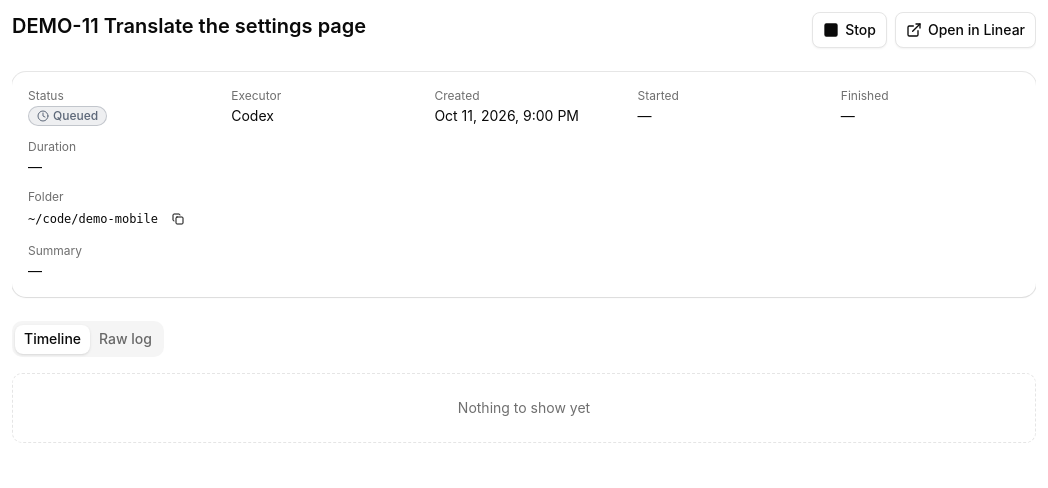
Test: a log with events but none worth a row has nothing to show in the timeline, and all of it in the raw log
The image size is (1048, 488).
Expected: the heading "DEMO-11 Translate the settings page" is shown, x1=12 y1=12 x2=366 y2=40
Expected: the text "Nothing to show yet" is shown, x1=12 y1=373 x2=1036 y2=443
Click the tab "Raw log".
click(126, 339)  # box x1=90 y1=324 x2=161 y2=354
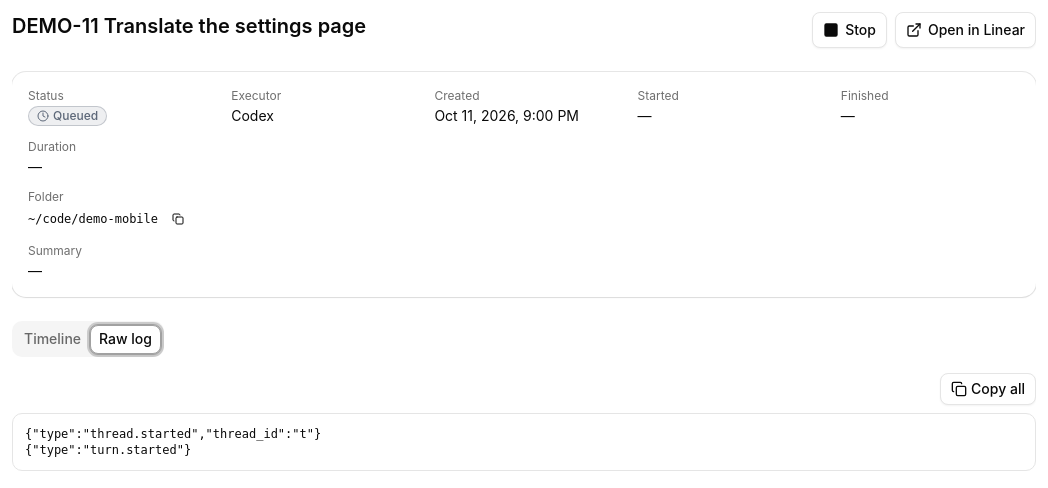
Result: the text "thread.started" is shown at x1=25 y1=427 x2=321 y2=457
Result: the text "Nothing to show yet" is gone
